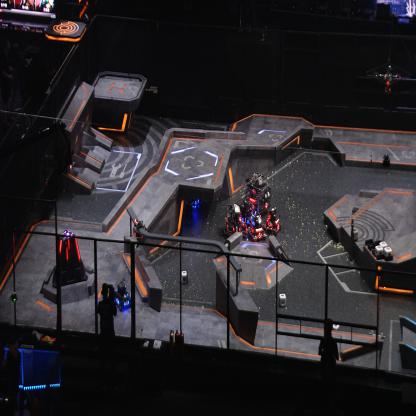car: (244, 172, 273, 218), (174, 170, 204, 214), (224, 201, 247, 237), (237, 198, 259, 229), (113, 278, 132, 310), (262, 206, 282, 236), (248, 214, 268, 242)
